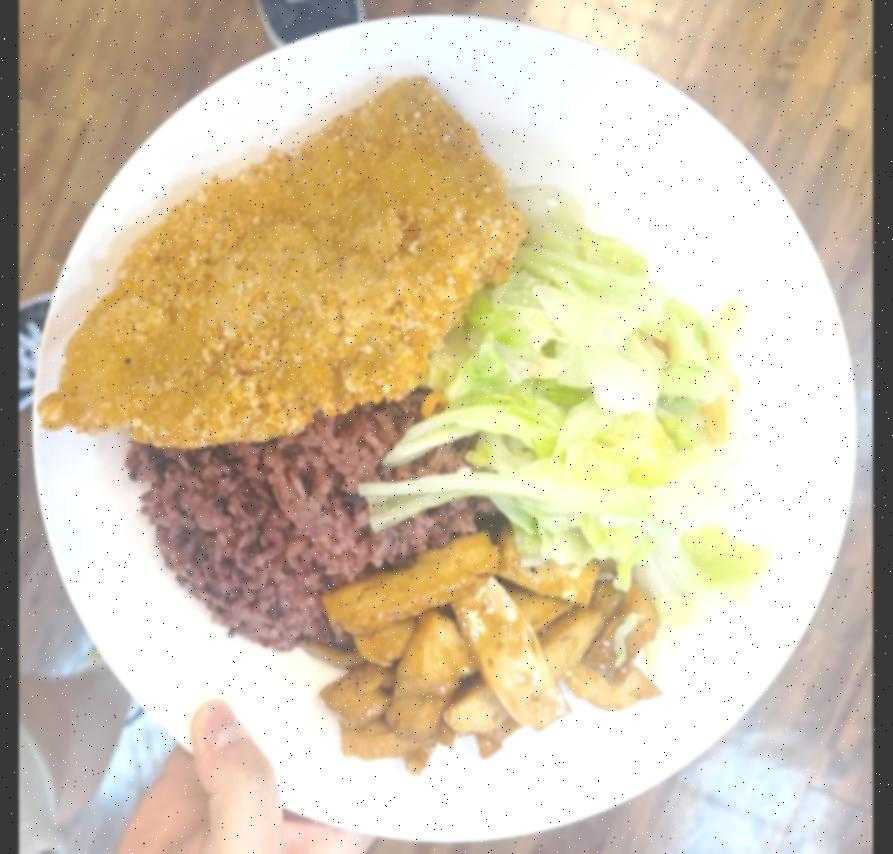chicken steak: (32, 71, 532, 445)
plate: (31, 9, 858, 854)
purple rice: (128, 366, 486, 658)
side dish: (434, 207, 764, 598), (318, 532, 655, 777)
